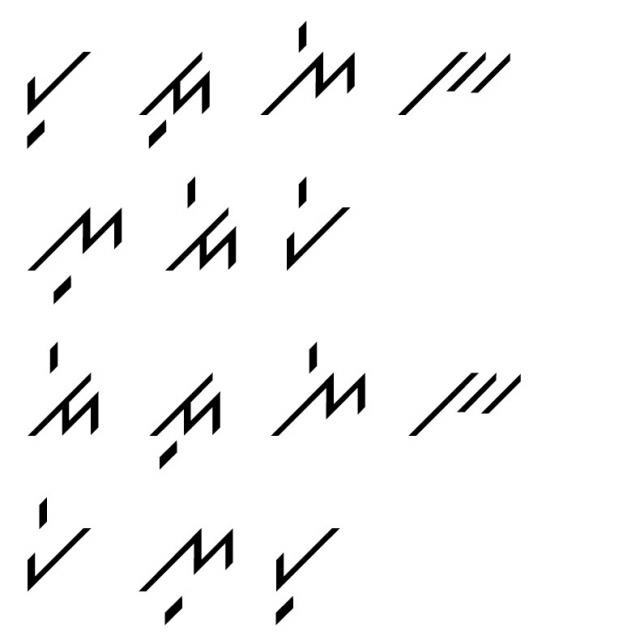de: (164, 170, 250, 282), (17, 339, 112, 440)
du: (130, 43, 220, 163), (146, 364, 228, 474)
ne: (262, 329, 378, 440), (258, 14, 366, 130)
nu: (21, 186, 143, 304), (136, 505, 240, 634)
pe: (17, 483, 100, 599), (277, 169, 354, 273)
pu: (266, 508, 355, 630), (15, 34, 97, 152)
